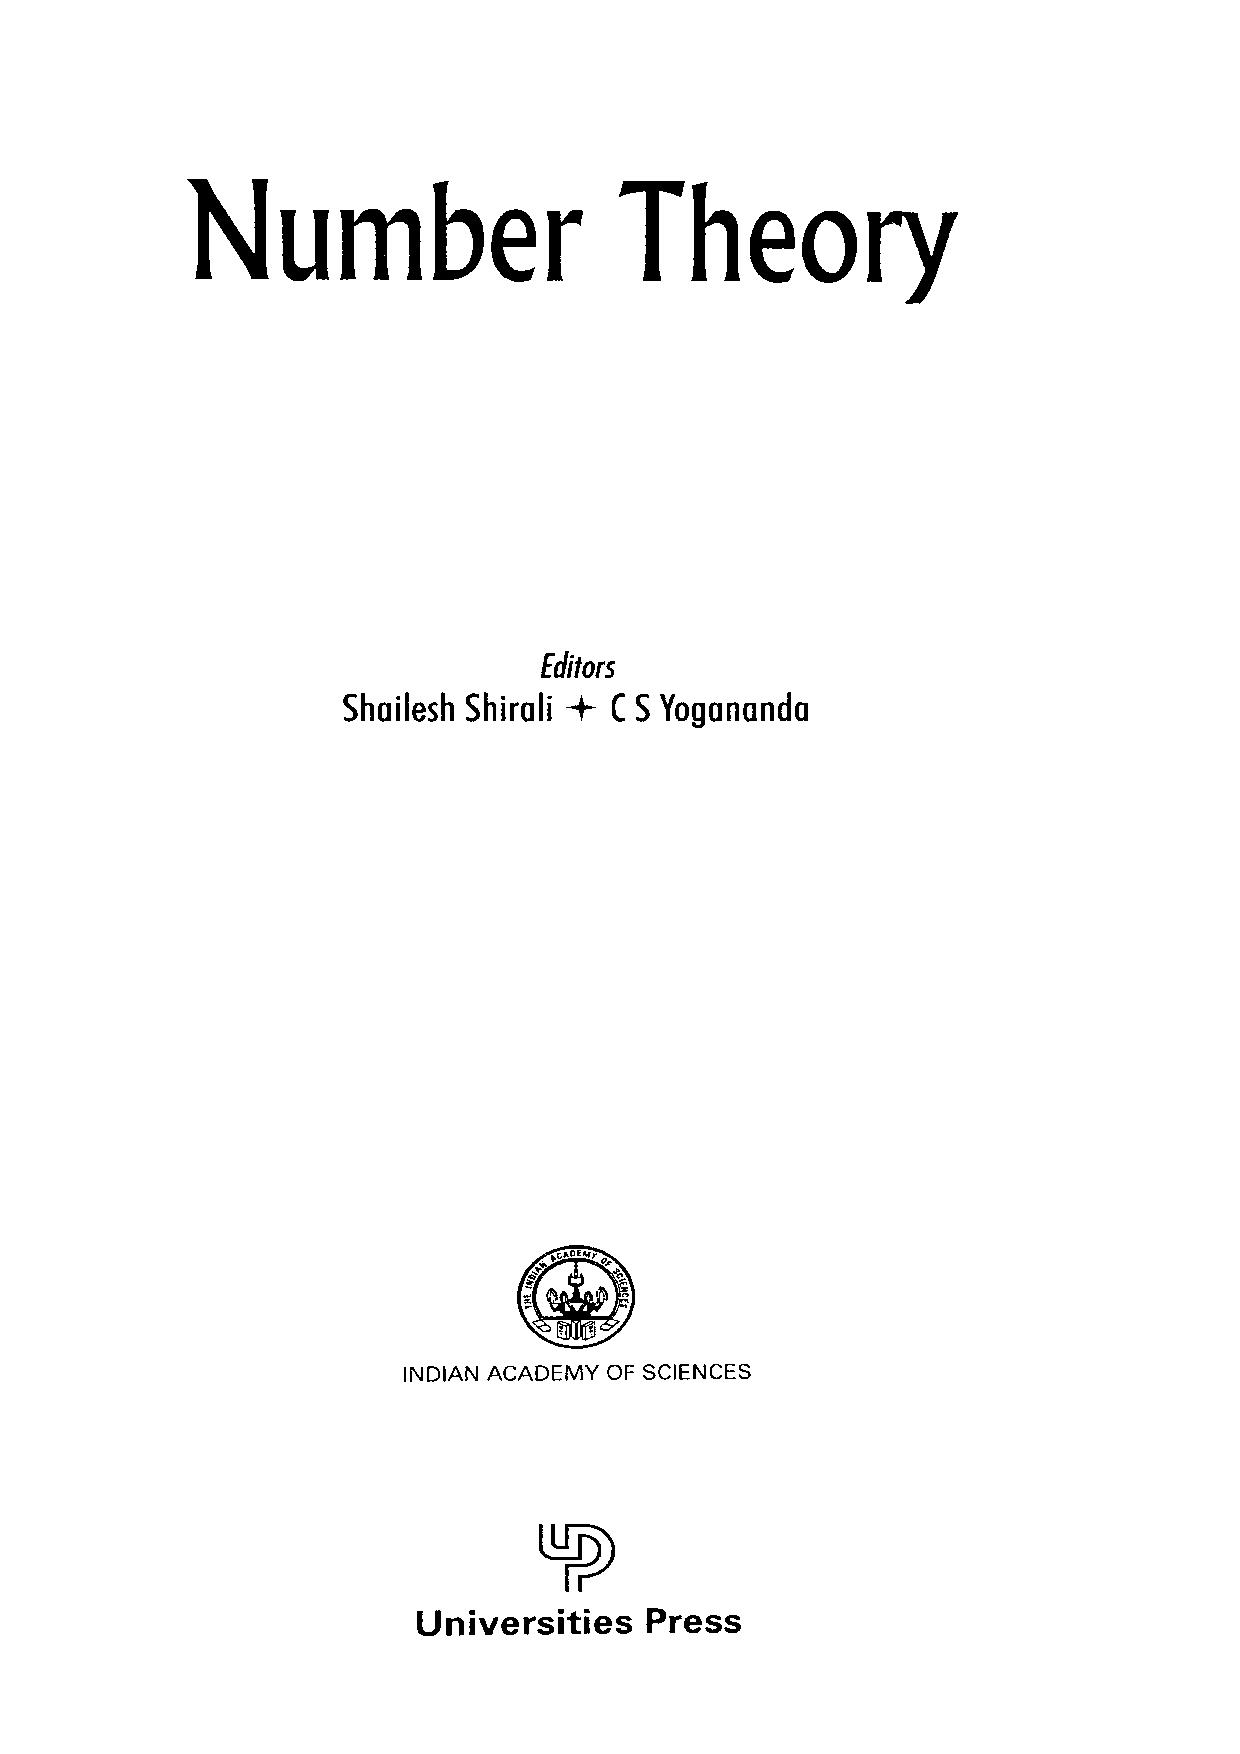title: (178, 173, 960, 307)
